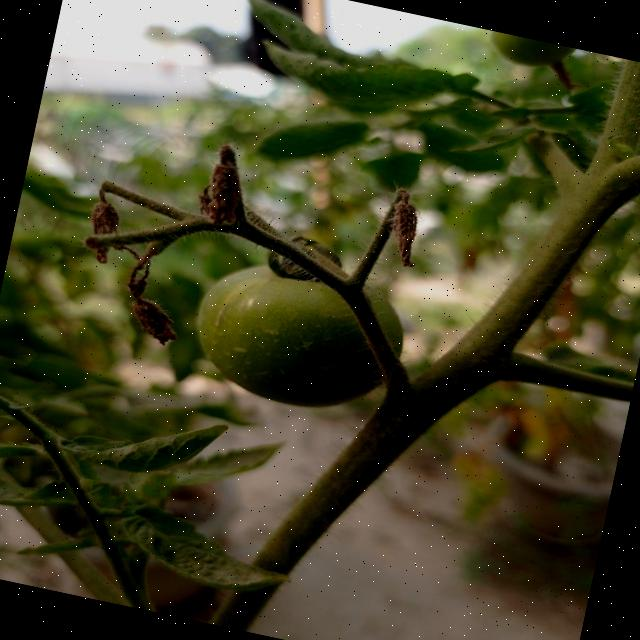Unripe: (179, 232, 420, 427)
